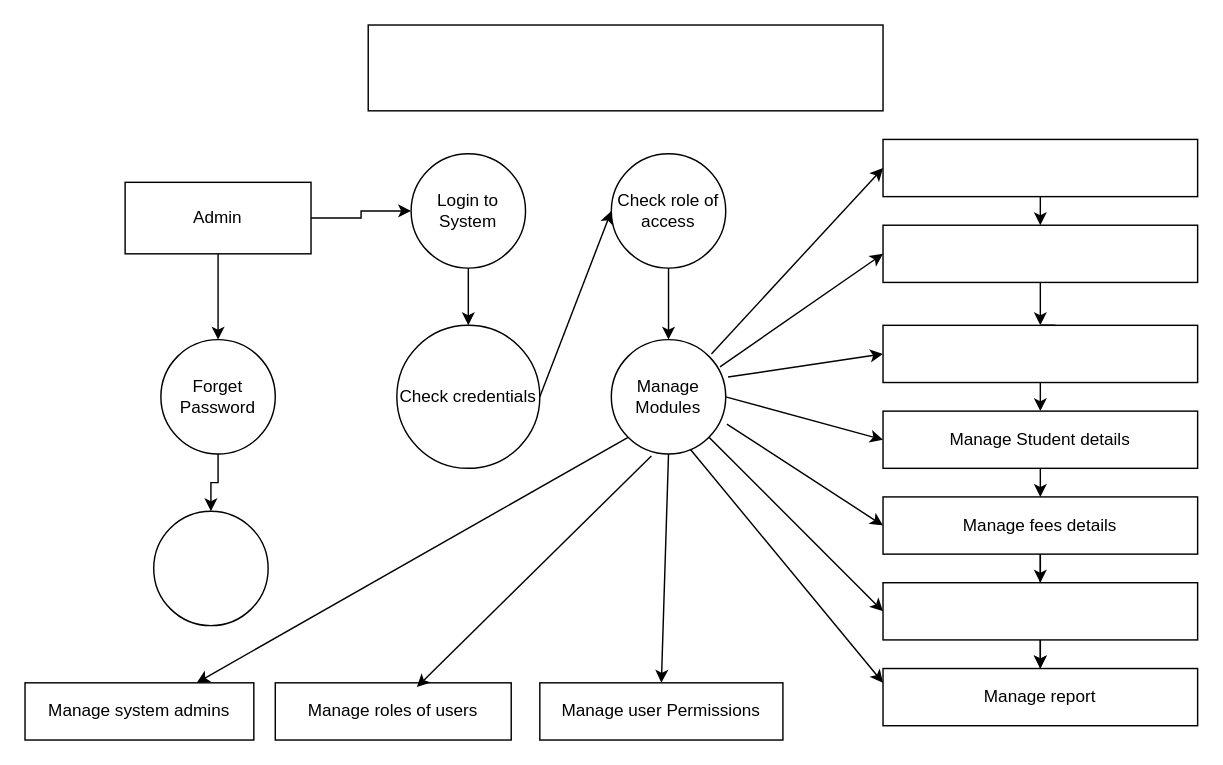
Image size: 1223x765. Some labels were removed from this diagram. Each missing label, with the centre of its shape:
"Manage attendence deatails" belongs at pixel 1040 253.
"Manage class details" belongs at pixel 1040 353.
"Manage teacher profiles" belongs at pixel 1040 610.
"Manage time table details" belongs at pixel 1040 167.
"Send email to user" belongs at pixel 210 568.
"Student Information System" belongs at pixel 625 67.
